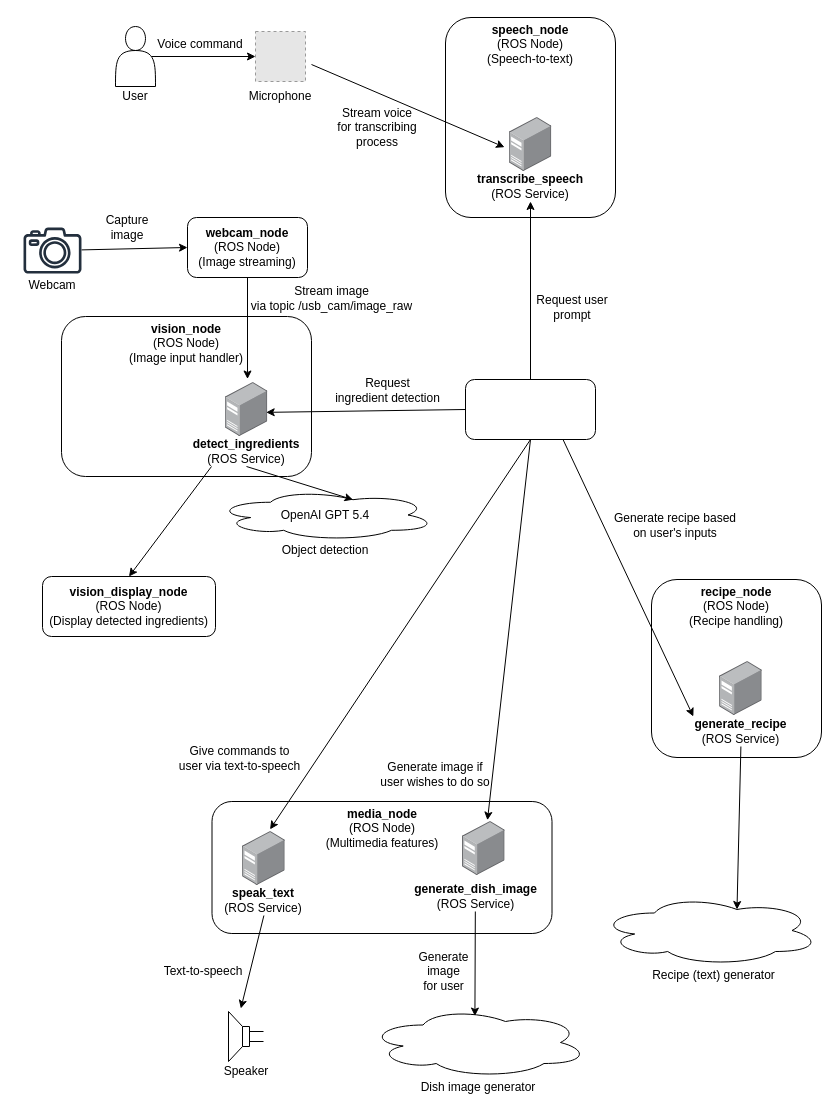
Image size: 839x1115. Some labels were removed from this diagram. Grey dashed boxes stand in for pictures. The centre of each missing label's shape, as x and y in pixels:
"Gemini 3.1 Flash Lite" goes at (709,930).
"interaction_manager (ROS Node) (State transition)" goes at (530,409).
"Tongyi-MAI/Z-Image-Turbo" goes at (477,1042).
